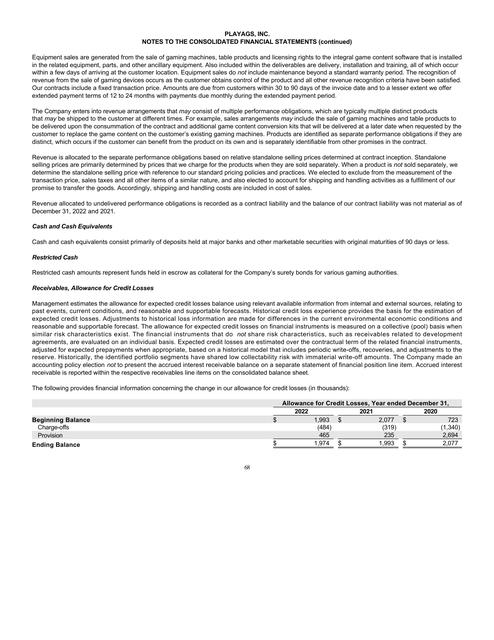box: (30, 398, 463, 452)
